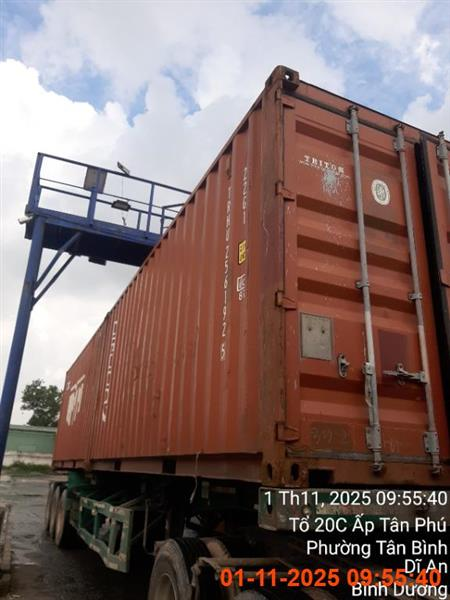broken: (45, 65, 448, 598)
